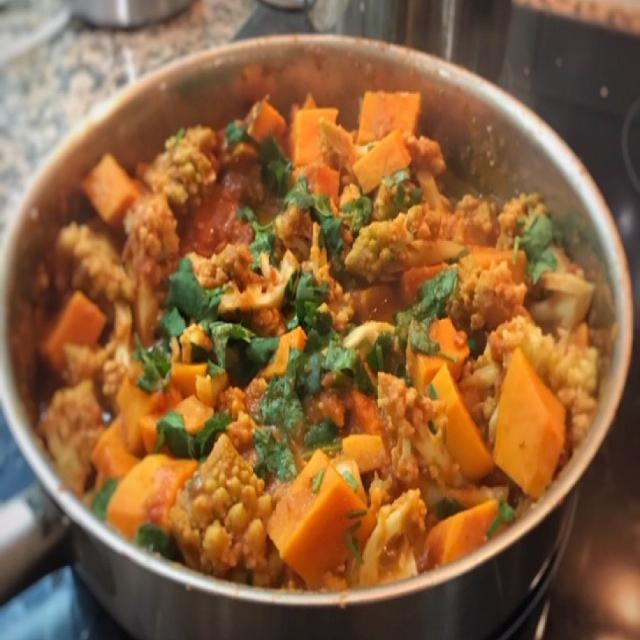aloo_gobi: (5, 40, 640, 608)
